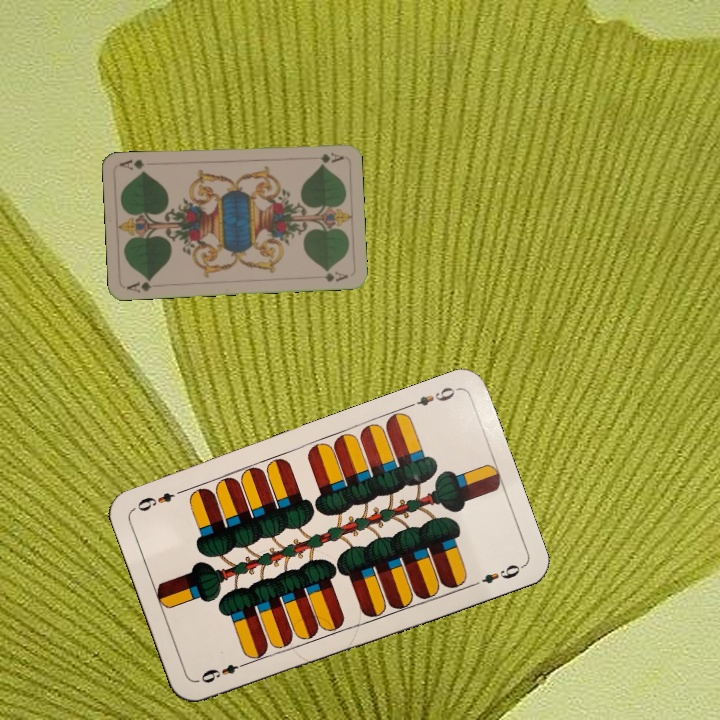E9: (194, 657, 251, 686), (403, 383, 461, 411)
GA: (305, 148, 346, 165), (123, 275, 154, 295)
